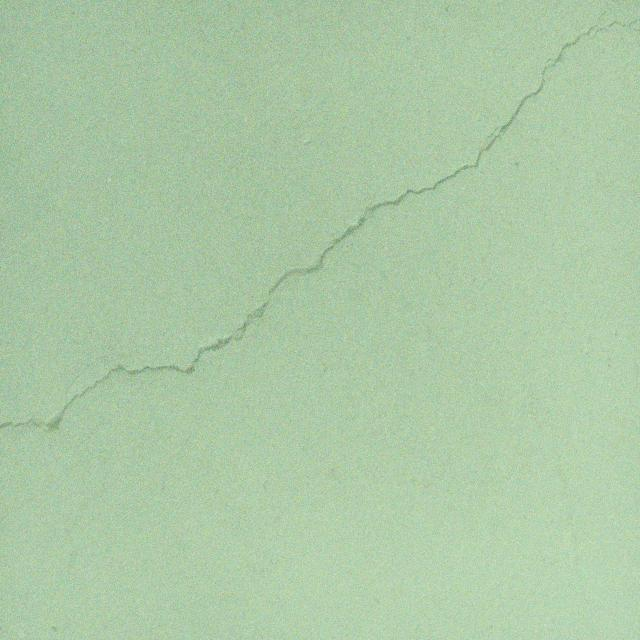crack: (0, 10, 640, 433)
